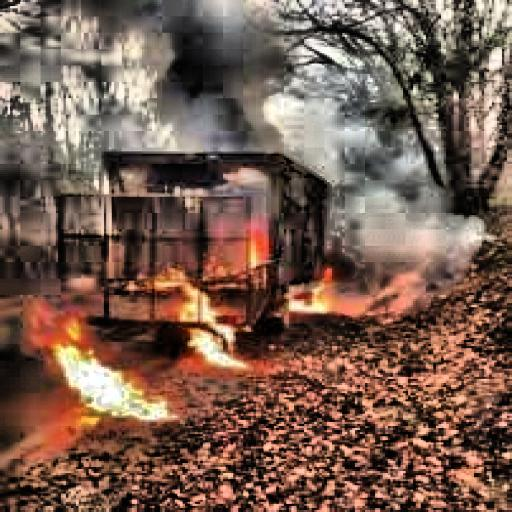fire: (18, 303, 180, 438), (150, 268, 254, 375), (276, 254, 360, 326), (228, 223, 289, 266)
